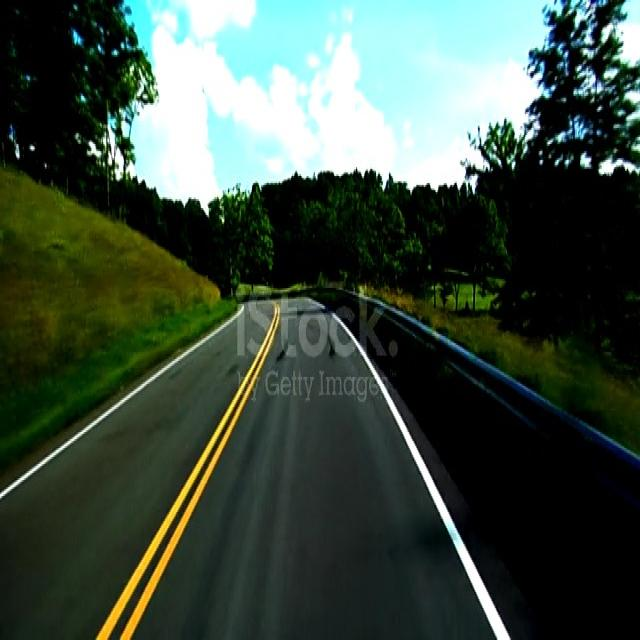lane: (97, 304, 279, 638), (341, 320, 509, 640), (0, 310, 240, 499)
